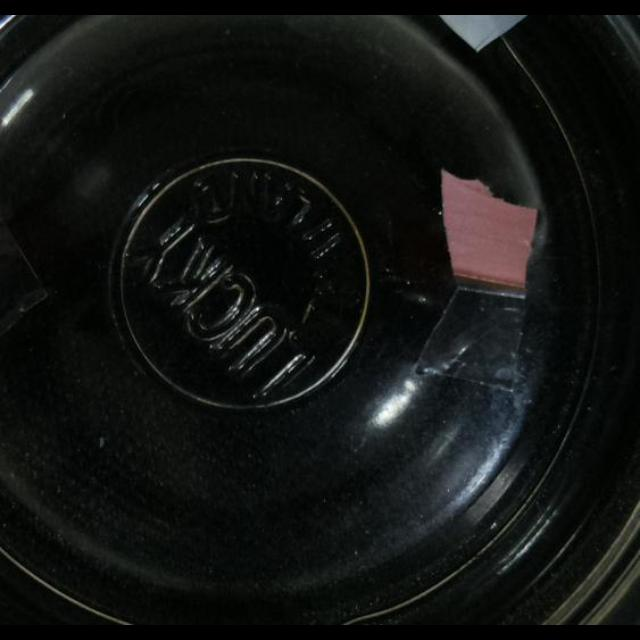Fragment: (440, 172, 538, 290), (430, 15, 538, 52)
